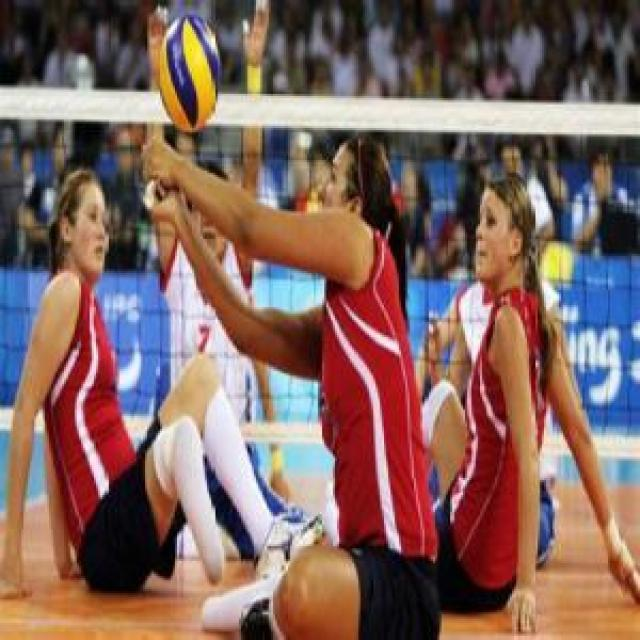volleyball: (158, 13, 220, 130)
